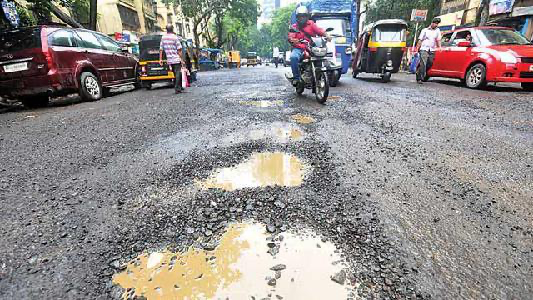pothole: (89, 201, 407, 298), (183, 142, 333, 189), (271, 122, 309, 141), (288, 108, 321, 126), (245, 96, 287, 110)
